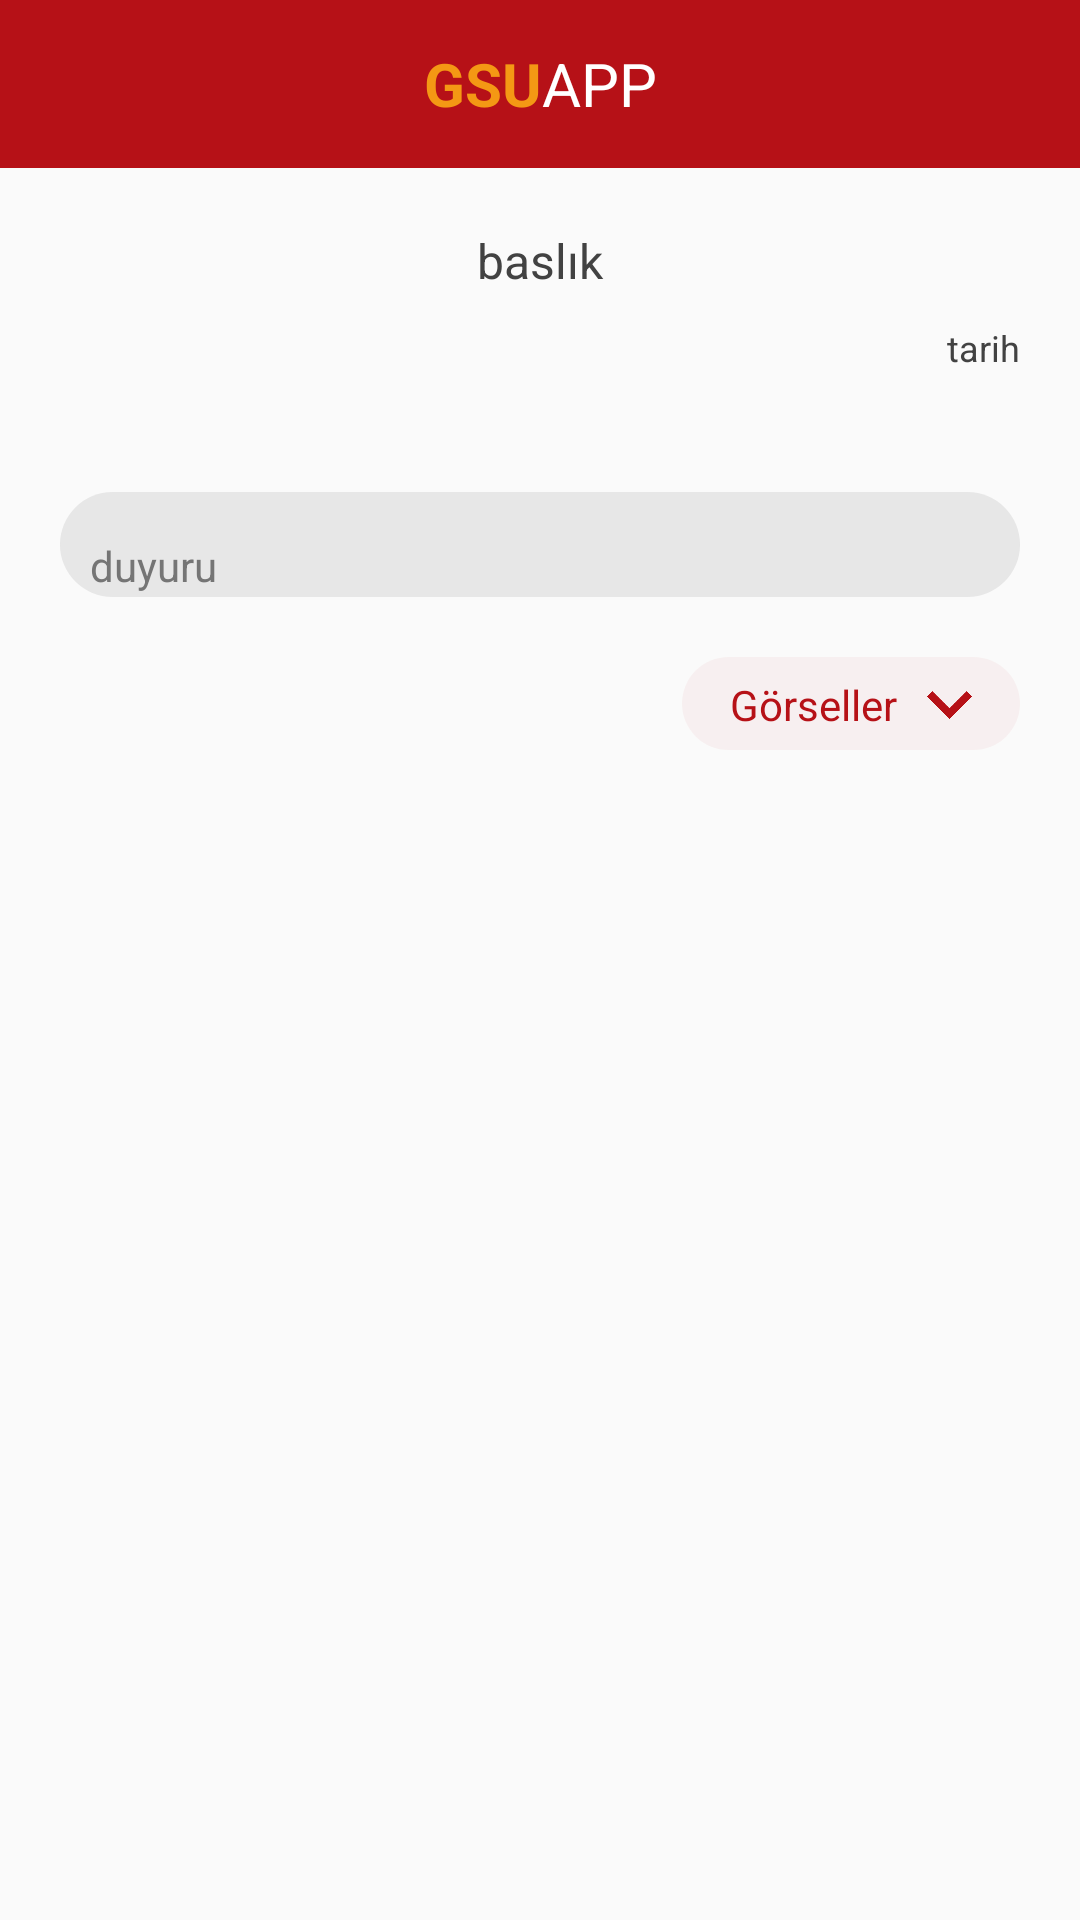

Icons on this 1080x1920 Android screen, each with the point to tap as (x,y):
dropdownbutton: (949,705)
